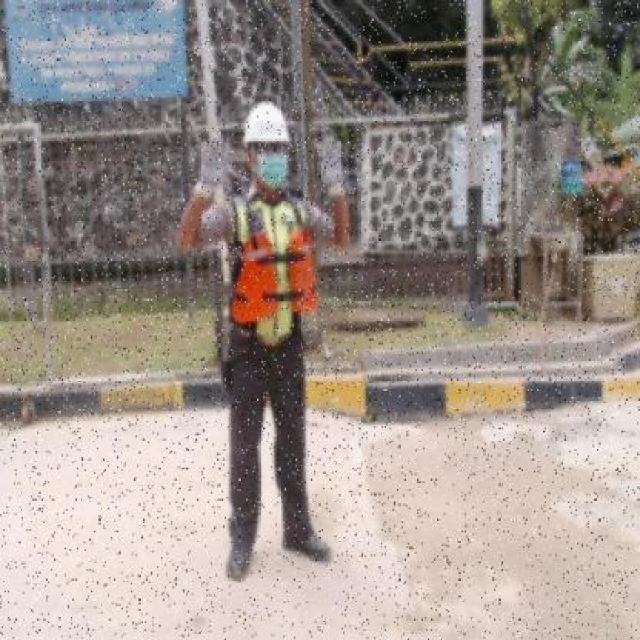Boots: (278, 524, 334, 567), (224, 532, 256, 582)
Gloves: (193, 134, 233, 201), (314, 132, 348, 199)
Helmet: (242, 99, 290, 144)
Mask: (256, 155, 290, 188)
Protective Glasses: (257, 142, 288, 156)
Vest: (228, 224, 320, 321)
